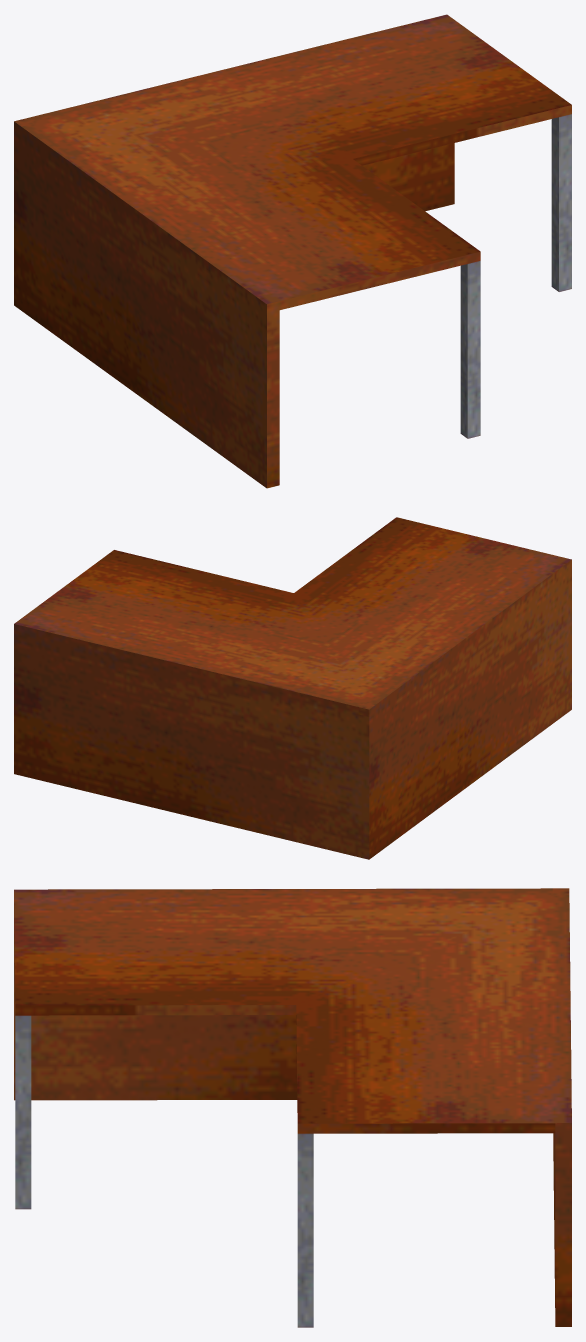
The model's file is desk1_corner.obj.
The picture shows the model from 3 angles, top to bottom: view 1: azimuth 30°, elevation 25°; view 2: azimuth 150°, elevation 25°; view 3: azimuth 270°, elevation 25°; orthographic projection. The views are drawn at different scales.
Parts seen in each view (by area): view 1: desk1_corner; view 2: desk1_corner; view 3: desk1_corner.
Boxes of the visible parts, left/top/right/bottom form: desk1_corner: left=14, top=14, right=571, bottom=488; desk1_corner: left=14, top=517, right=571, bottom=859; desk1_corner: left=14, top=888, right=571, bottom=1327.
Bounding box in the file's own units: 2.21 × 0.8911 × 2.21.
